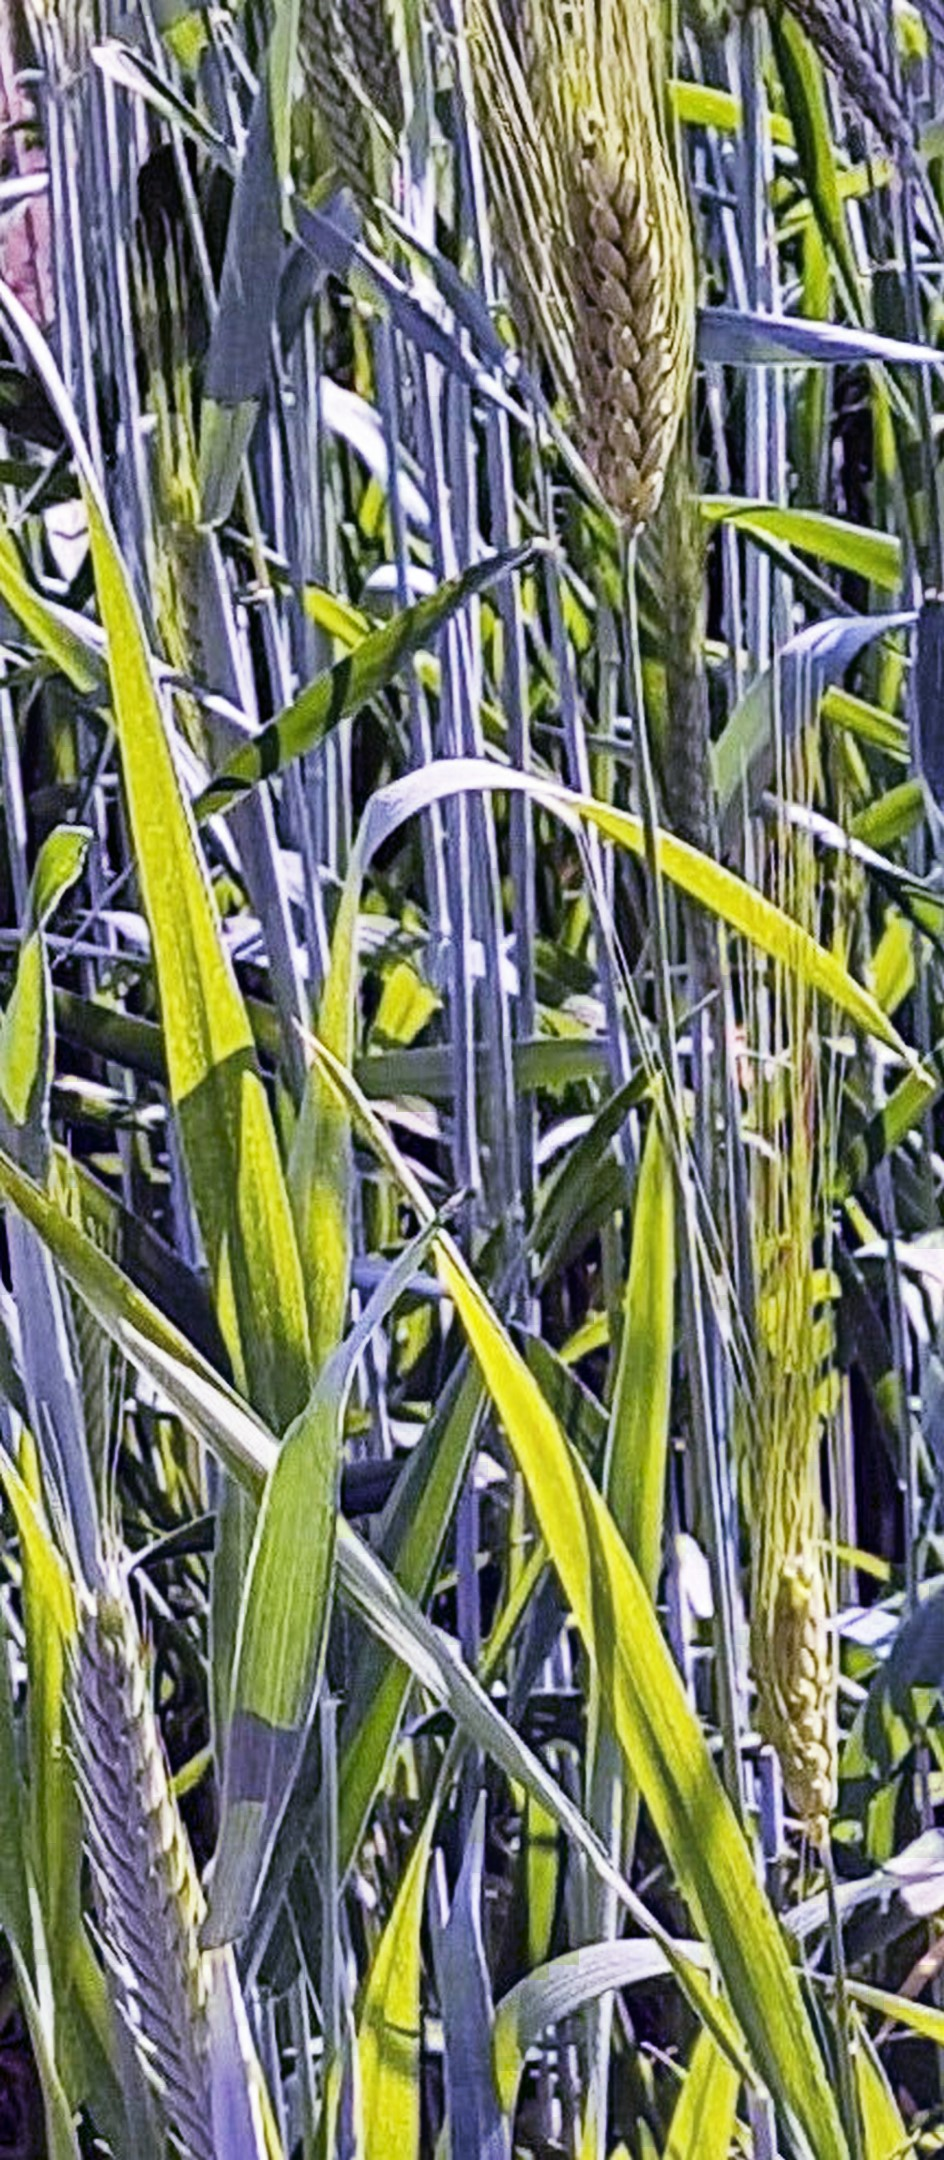Healthy Wheat: (513, 96, 724, 570), (63, 1619, 265, 2097)
